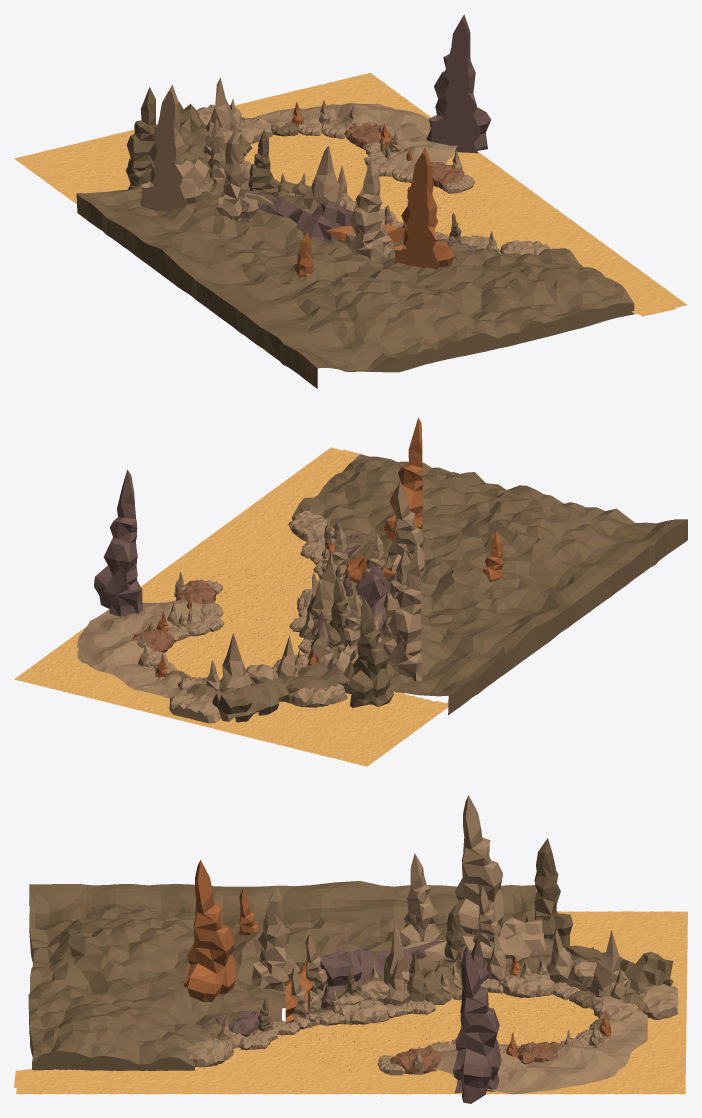
The model's file is карта1 (доработка) (2).fbx.
The picture shows the model from 3 angles, top to bottom: view 1: azimuth 30°, elevation 25°; view 2: azimuth 150°, elevation 25°; view 3: azimuth 270°, elevation 25°; orthographic projection. The views are drawn at different scales.
Parts seen in each view (by area): view 1: Плоскость.003, Plane.005, Cube.199, Плоскость.002, Cube.184, Cube.202, Cube.201, Cube.182, Cube.180, Cube.183, высокий камень.138, Cube.194 (+8 smaller); view 2: Плоскость.003, Plane.005, Плоскость.002, Cube.199, Cube.184, Cube.183, Cube.175, Cube.202, Cube.201, Cube.182, низкий камень.232, низкий камень.233 (+11 smaller); view 3: Плоскость.003, Plane.005, Плоскость.002, Cube.199, Cube.202, Cube.184, Cube.201, Cube.183, Cube.182, Cube.181, Cube.180, Cube.175 (+23 smaller).
Boxes of the visible parts, x1,y1,x2,y2 form: Плоскость.003: (76,116,634,388); Plane.005: (14,73,687,316); Cube.199: (426,14,491,153); Плоскость.002: (246,102,458,169); Cube.184: (140,84,201,211); Cube.202: (394,147,454,269); Cube.201: (345,158,394,261); Cube.182: (245,190,353,243); Cube.180: (213,131,258,222); Cube.183: (125,87,155,189); высокий камень.138: (303,145,338,209); Cube.194: (249,129,279,199); Плоскость.003: (187,454,687,715); Plane.005: (14,447,448,766); Плоскость.002: (77,600,203,698); Cube.199: (94,469,142,616); Cube.184: (383,541,422,681); Cube.183: (348,598,393,707); Cube.175: (212,676,315,722); Cube.202: (384,417,423,550); Cube.201: (385,482,424,572); Cube.182: (355,567,396,636); низкий камень.232: (169,693,221,723); низкий камень.233: (286,683,347,707); Плоскость.003: (28,881,643,1070); Plane.005: (14,911,687,1094); Плоскость.002: (431,1010,647,1094); Cube.199: (452,945,501,1103); Cube.202: (183,860,235,1001); Cube.184: (455,795,503,934); Cube.201: (252,886,300,991); Cube.183: (525,838,573,947); Cube.182: (320,939,446,993); Cube.181: (402,917,545,961); Cube.180: (399,853,441,947); Cube.175: (564,945,673,991).
Size of the model in its own units: 20792 by 7314 by 30182.
